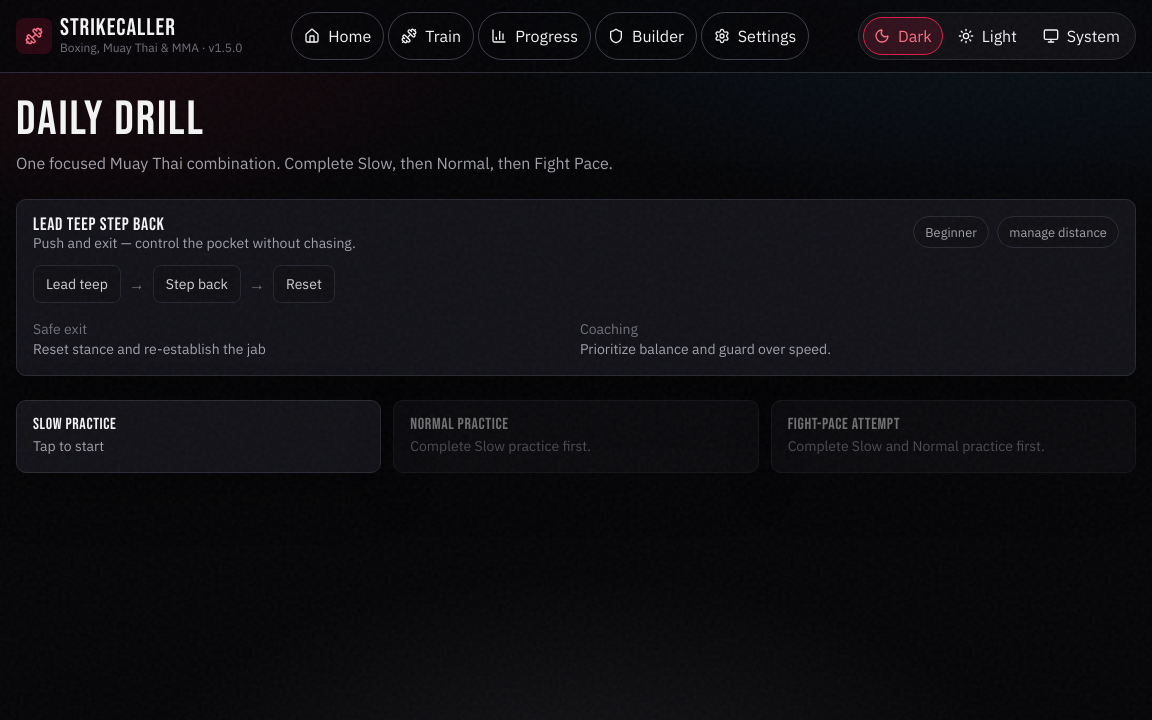
Test case: A5 legitimate session entry points › Daily Slow Practice starts with a valid dailyPhase and origin key
Click the button "Slow practice Tap to start": [75, 425] box [16, 400, 381, 473]
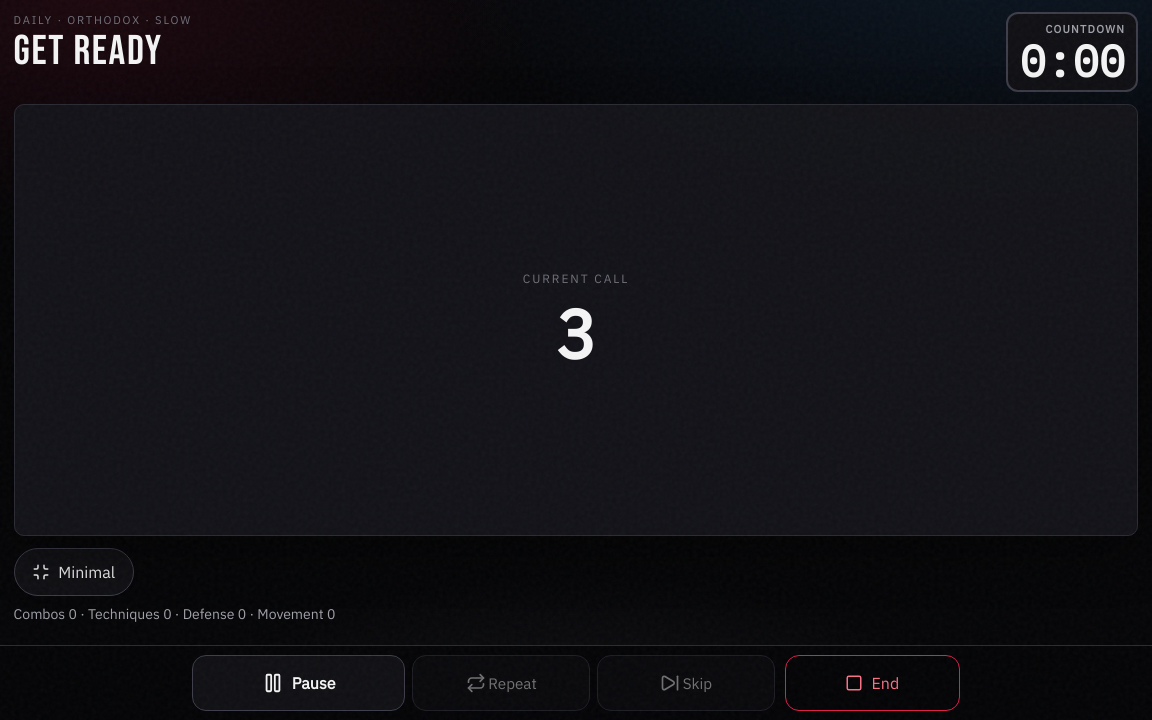
Check: the text "daily · orthodox · slow" is shown, box [14, 13, 192, 27]
